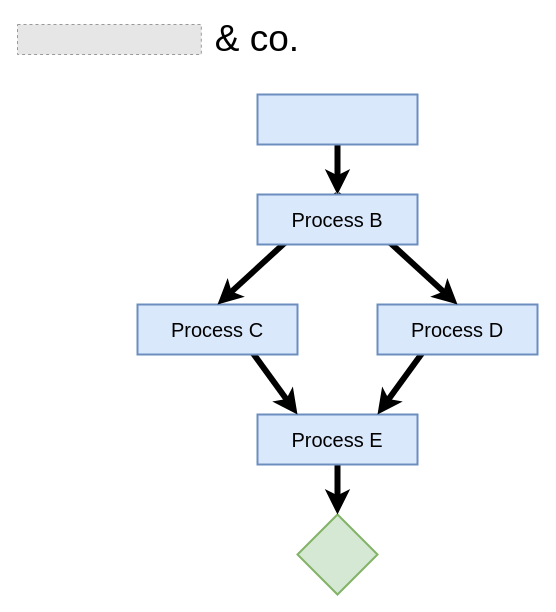
The diagram is 556 pixels wide and 612 high, and some of its shapes have lost their labels. Grey dashed boxes stand in for pictures. Each missing label, with the box of its shape:
End: (296, 513, 378, 595)
Process A: (256, 93, 418, 145)
